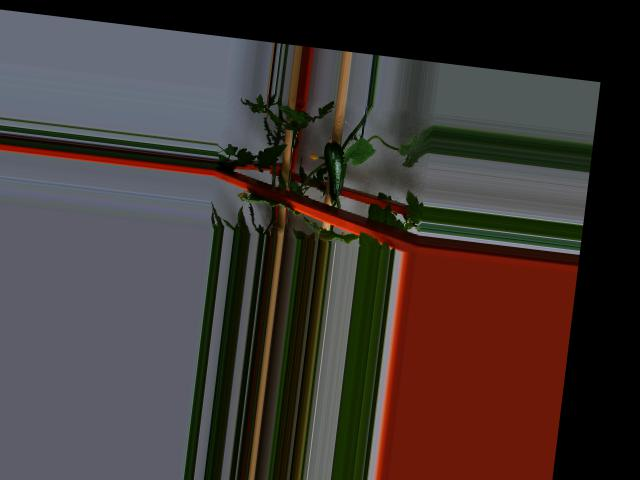cucumber: (318, 135, 349, 198)
